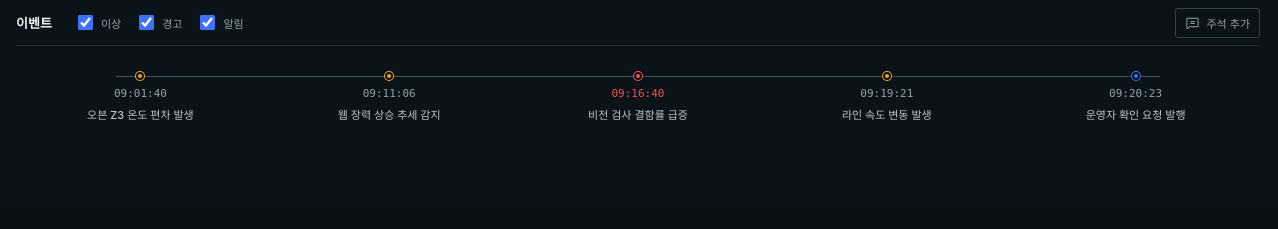
Test: operations interactions › filters events and adds an operator annotation
Step 1. Click the checkbox labelled "경고" → (147, 22), box x1=139 y1=15 x2=154 y2=30
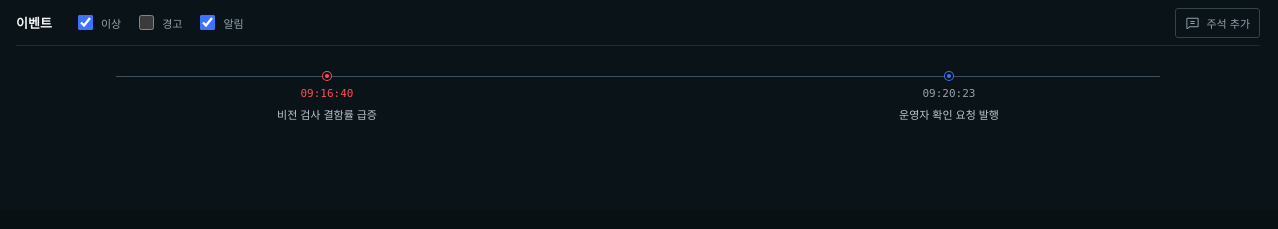
Expected: the text "비전 검사 결함률 급증" is shown, x1=277 y1=107 x2=377 y2=124
Expected: the text "웹 장력 상승 추세 감지" is gone
Step 2. Click the button "주석 추가" → (1218, 22), box x1=1175 y1=8 x2=1260 y2=38
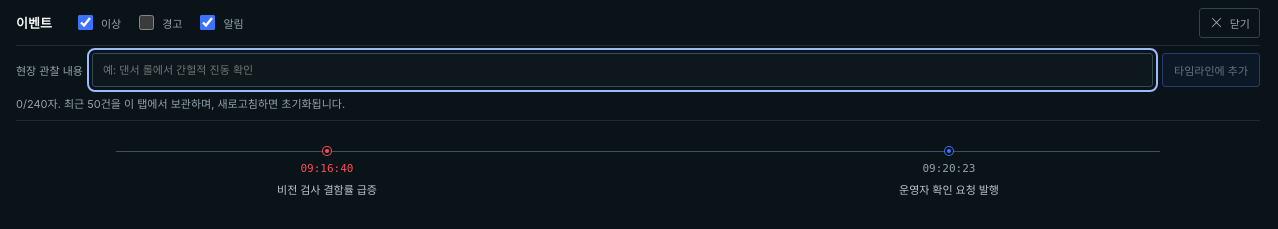
Step 3. Type "댄서 롤 진동 확인" into the field labelled "현장 관찰 내용" → (622, 70), box x1=92 y1=53 x2=1153 y2=87
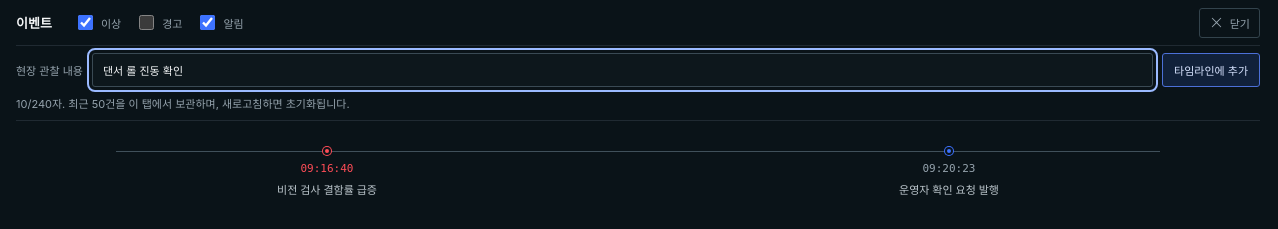
Step 4. Click the button "타임라인에 추가" → (1211, 70), box x1=1162 y1=53 x2=1260 y2=87
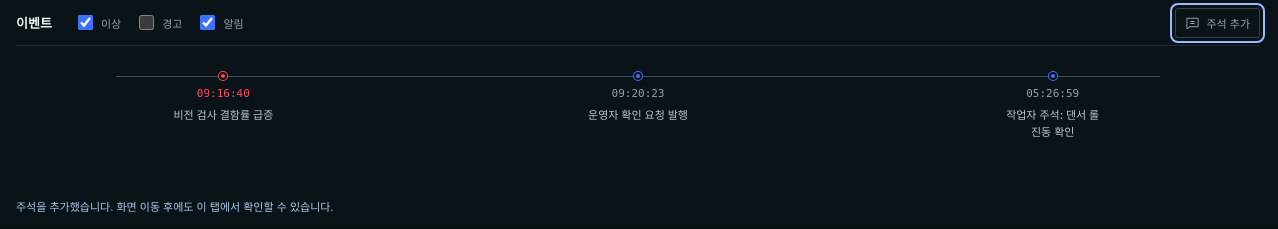
Expected: the text "작업자 주석: 댄서 롤 진동 확인" is shown, x1=1006 y1=108 x2=1099 y2=139
